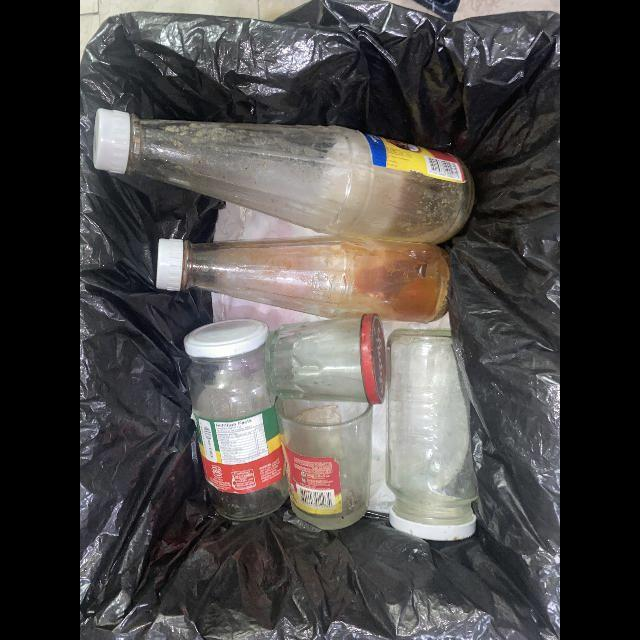glass_bottle: (93, 109, 475, 246), (155, 237, 451, 324), (183, 319, 290, 521), (385, 329, 478, 542), (276, 394, 373, 533), (268, 314, 387, 406)
